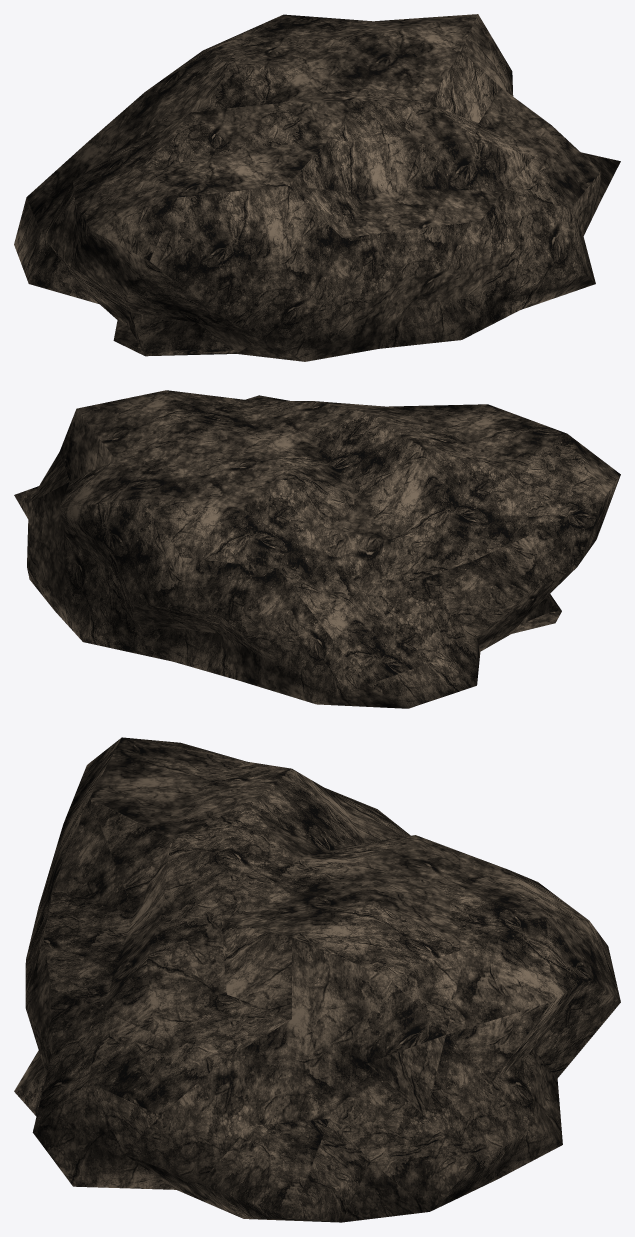
The model's file is rock_1.glb.
3 renders of one model, top to bottom at view 1: azimuth 30°, elevation 25°; view 2: azimuth 150°, elevation 25°; view 3: azimuth 270°, elevation 25°, orthographic. The views are drawn at different scales.
Parts seen in each view (by area): view 1: rock; view 2: rock; view 3: rock.
Part boxes in pixels (x1,y1,x2,y2): rock: (14,14,620,361); rock: (14,390,620,708); rock: (14,737,620,1222).
Bounding box in the file's own units: 68.86 × 21.78 × 50.96.
Materials: 1 (1 with a texture image).
